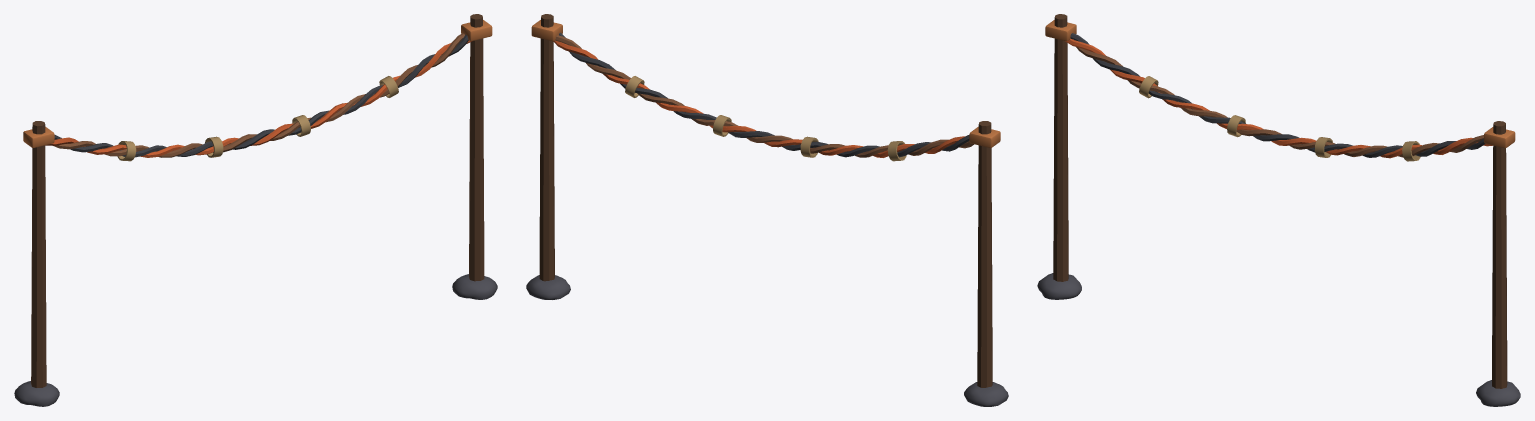
File: deco_cable_bundle_hanging.fbx
The picture shows the model from 3 angles, left to right: view 1: azimuth 30°, elevation 25°; view 2: azimuth 150°, elevation 25°; view 3: azimuth 330°, elevation 25°; orthographic projection.
Visible parts, largest first — view 1: CableBundle_Hanging_Posts, CableBundle_Hanging_Cables, CableBundle_Hanging_Wraps; view 2: CableBundle_Hanging_Posts, CableBundle_Hanging_Cables, CableBundle_Hanging_Wraps; view 3: CableBundle_Hanging_Posts, CableBundle_Hanging_Cables, CableBundle_Hanging_Wraps.
Boxes of the visible parts, <box> form: CableBundle_Hanging_Posts: <box>14,14,497,406</box>; CableBundle_Hanging_Cables: <box>45,33,472,157</box>; CableBundle_Hanging_Wraps: <box>117,76,398,161</box>; CableBundle_Hanging_Posts: <box>526,14,1008,406</box>; CableBundle_Hanging_Cables: <box>553,32,973,157</box>; CableBundle_Hanging_Wraps: <box>625,76,906,161</box>; CableBundle_Hanging_Posts: <box>1037,14,1520,406</box>; CableBundle_Hanging_Cables: <box>1065,33,1492,158</box>; CableBundle_Hanging_Wraps: <box>1139,76,1420,161</box>.
Bounding box in the file's own units: 544 × 300 × 43.8.
